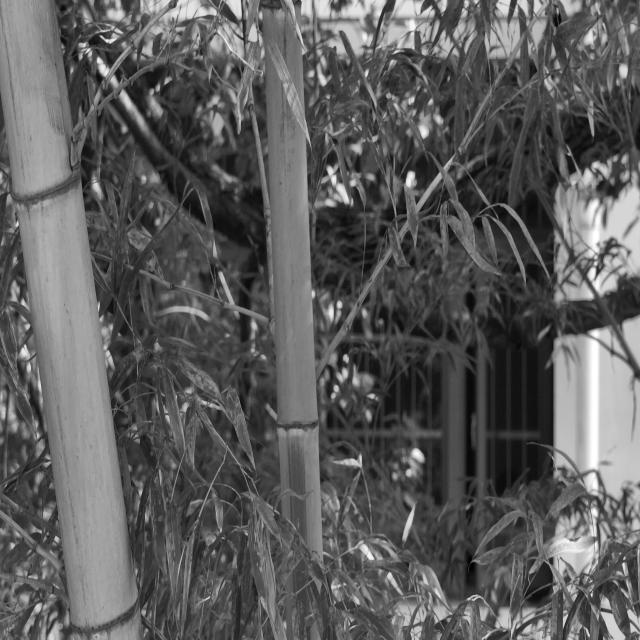Bamboo-shoots: (0, 0, 144, 640), (263, 0, 326, 640)
